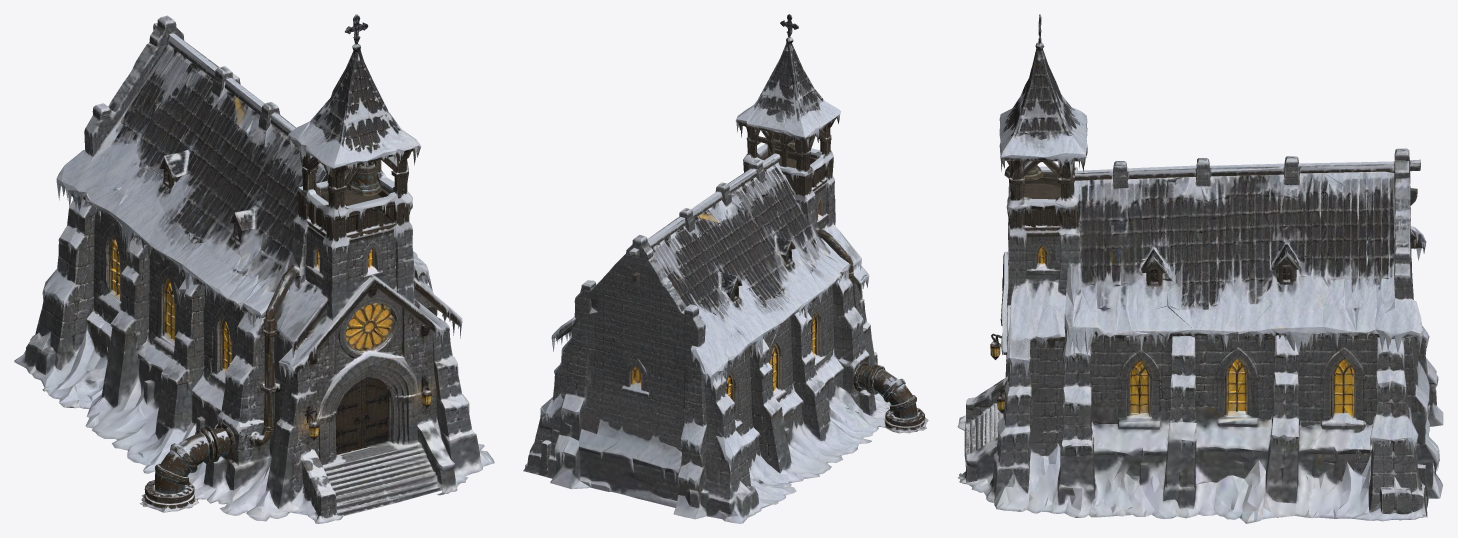
File: church.glb
The picture shows the model from 3 angles, left to right: view 1: azimuth 30°, elevation 25°; view 2: azimuth 150°, elevation 25°; view 3: azimuth 270°, elevation 25°; orthographic projection. The views are drawn at different scales.
Parts seen in each view (by area): view 1: Mesh_0; view 2: Mesh_0; view 3: Mesh_0.
Boxes of the visible parts, left/top/right/bottom form: Mesh_0: left=14, top=14, right=494, bottom=523; Mesh_0: left=523, top=14, right=928, bottom=523; Mesh_0: left=957, top=14, right=1443, bottom=523.
Bounding box in the file's own units: 1.47 × 1.9 × 1.9.
1 material, 1 textured.
